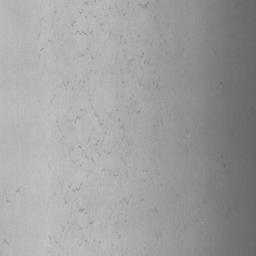Silk spot: (56, 95, 111, 167), (68, 0, 158, 35), (54, 182, 101, 246), (115, 35, 149, 73), (109, 94, 141, 129), (62, 70, 96, 90)
